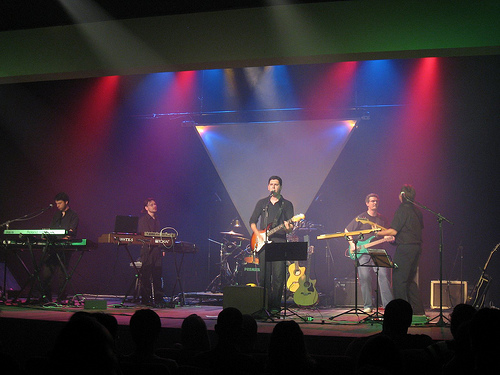guitar: (293, 242, 319, 309)
